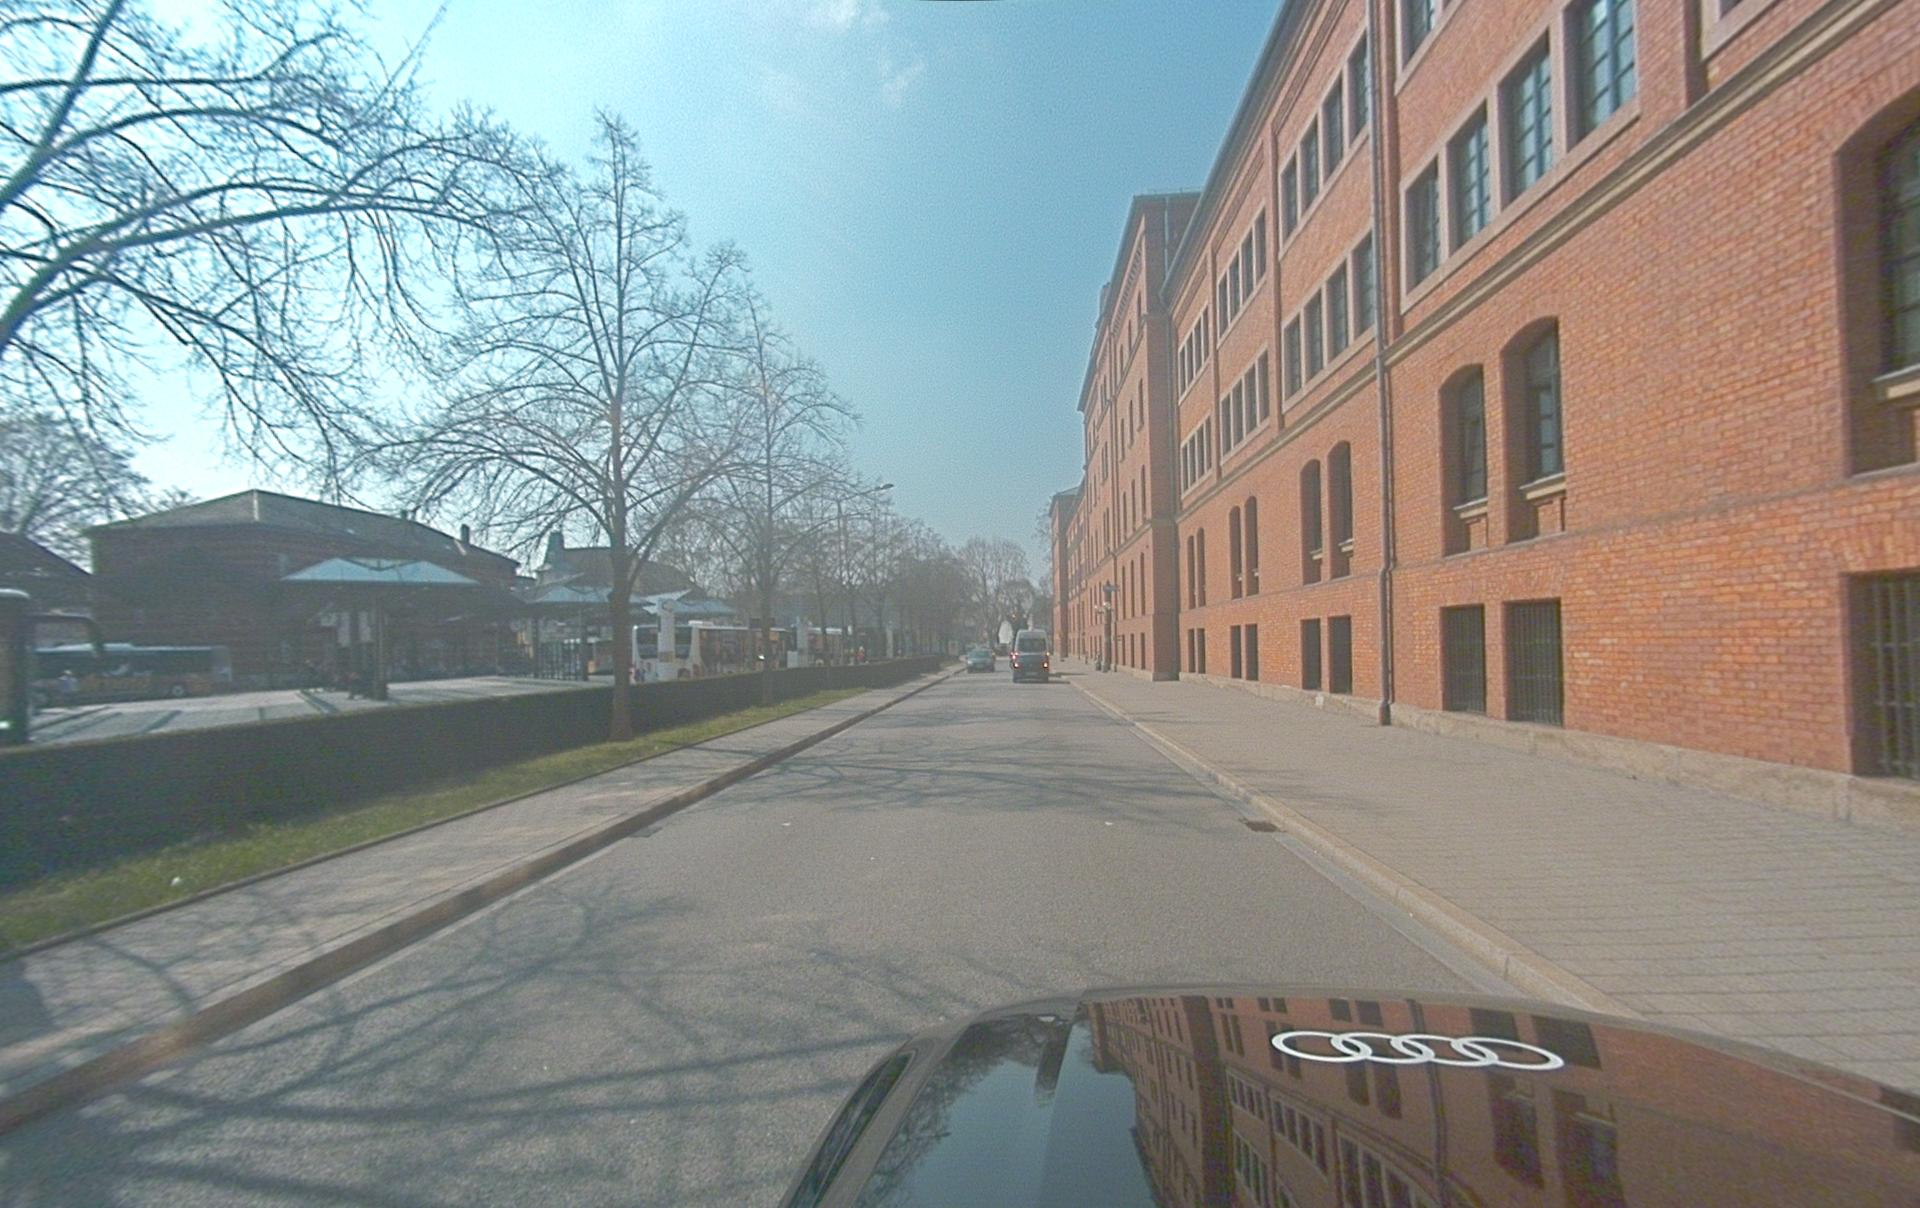car: (1010, 629, 1052, 682), (967, 647, 996, 672)
